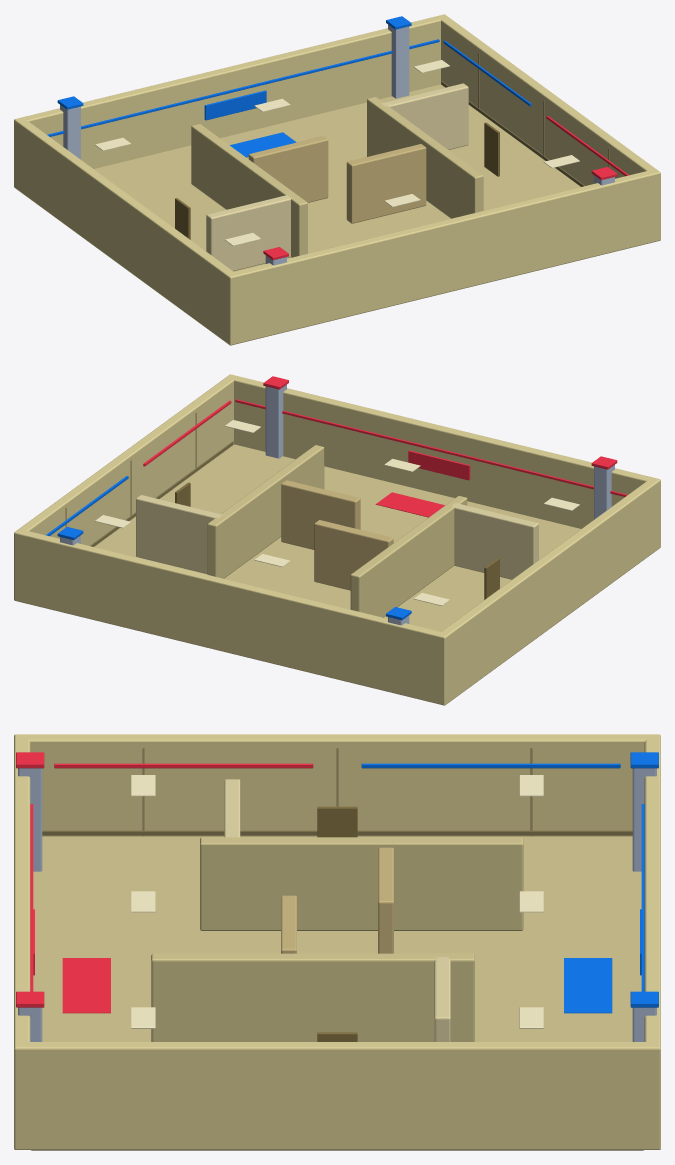
The model's file is Backrooms.glb.
3 renders of one model, top to bottom at view 1: azimuth 30°, elevation 25°; view 2: azimuth 150°, elevation 25°; view 3: azimuth 270°, elevation 25°, orthographic. The views are drawn at different scales.
Parts seen in each view (by area): view 1: Backrooms_PB_e5d99c, Backrooms_PB_d5c990, Backrooms_PB_dbcf94, Backrooms_PB_d1bd83, Backrooms_PB_e9ddaa, Backrooms_PB_087bff, Backrooms_PB_b5c6df, Backrooms_PB_fff8ce, Backrooms_PB_887645, Backrooms_PB_ff304b, Backrooms_PB_8c8054; view 2: Backrooms_PB_e5d99c, Backrooms_PB_d5c990, Backrooms_PB_dbcf94, Backrooms_PB_e9ddaa, Backrooms_PB_d1bd83, Backrooms_PB_ff304b, Backrooms_PB_b5c6df, Backrooms_PB_fff8ce, Backrooms_PB_087bff, Backrooms_PB_887645, Backrooms_PB_8c8054; view 3: Backrooms_PB_e5d99c, Backrooms_PB_d5c990, Backrooms_PB_dbcf94, Backrooms_PB_087bff, Backrooms_PB_ff304b, Backrooms_PB_b5c6df, Backrooms_PB_fff8ce, Backrooms_PB_8c8054, Backrooms_PB_d1bd83, Backrooms_PB_e9ddaa, Backrooms_PB_887645.
Boxes of the visible parts, <box> form: Backrooms_PB_e5d99c: <box>14,14,660,345</box>; Backrooms_PB_d5c990: <box>94,84,580,271</box>; Backrooms_PB_dbcf94: <box>191,97,483,257</box>; Backrooms_PB_d1bd83: <box>248,136,426,223</box>; Backrooms_PB_e9ddaa: <box>206,83,468,271</box>; Backrooms_PB_087bff: <box>47,16,531,157</box>; Backrooms_PB_b5c6df: <box>60,24,614,265</box>; Backrooms_PB_fff8ce: <box>95,60,579,245</box>; Backrooms_PB_887645: <box>175,122,499,239</box>; Backrooms_PB_ff304b: <box>263,116,628,260</box>; Backrooms_PB_8c8054: <box>441,81,584,186</box>; Backrooms_PB_e5d99c: <box>14,374,660,705</box>; Backrooms_PB_d5c990: <box>94,444,580,631</box>; Backrooms_PB_dbcf94: <box>207,445,467,617</box>; Backrooms_PB_e9ddaa: <box>136,495,538,579</box>; Backrooms_PB_d1bd83: <box>281,480,393,590</box>; Backrooms_PB_ff304b: <box>143,376,627,517</box>; Backrooms_PB_b5c6df: <box>60,384,614,625</box>; Backrooms_PB_fff8ce: <box>95,420,579,605</box>; Backrooms_PB_087bff: <box>46,476,411,620</box>; Backrooms_PB_887645: <box>175,482,499,599</box>; Backrooms_PB_8c8054: <box>90,441,233,546</box>; Backrooms_PB_e5d99c: <box>14,734,660,1149</box>; Backrooms_PB_d5c990: <box>31,836,643,1150</box>; Backrooms_PB_dbcf94: <box>151,837,523,1041</box>; Backrooms_PB_087bff: <box>361,752,658,1013</box>; Backrooms_PB_ff304b: <box>16,752,313,1013</box>; Backrooms_PB_b5c6df: <box>18,768,656,1041</box>; Backrooms_PB_fff8ce: <box>131,775,543,1028</box>; Backrooms_PB_8c8054: <box>42,830,632,835</box>; Backrooms_PB_d1bd83: <box>281,847,393,953</box>; Backrooms_PB_e9ddaa: <box>224,779,450,1041</box>; Backrooms_PB_887645: <box>317,806,357,1041</box>.
Bounding box in the file's own units: 25.76 × 4.7 × 22.4.
